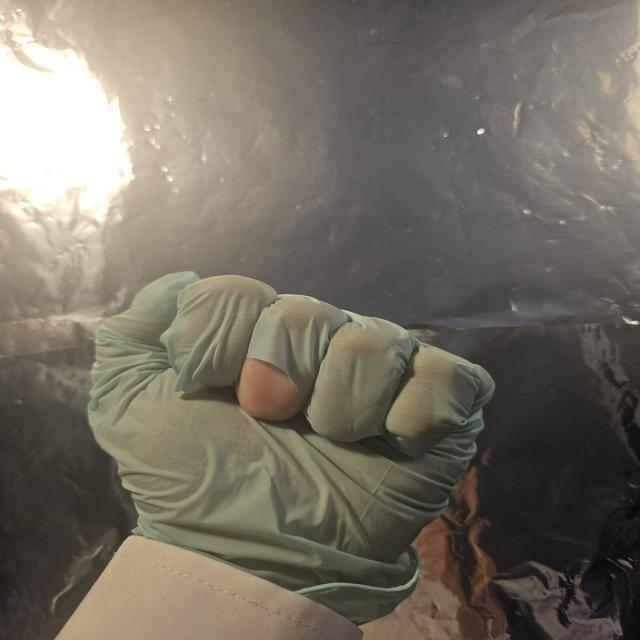gloves_damaged: (80, 268, 498, 624)
